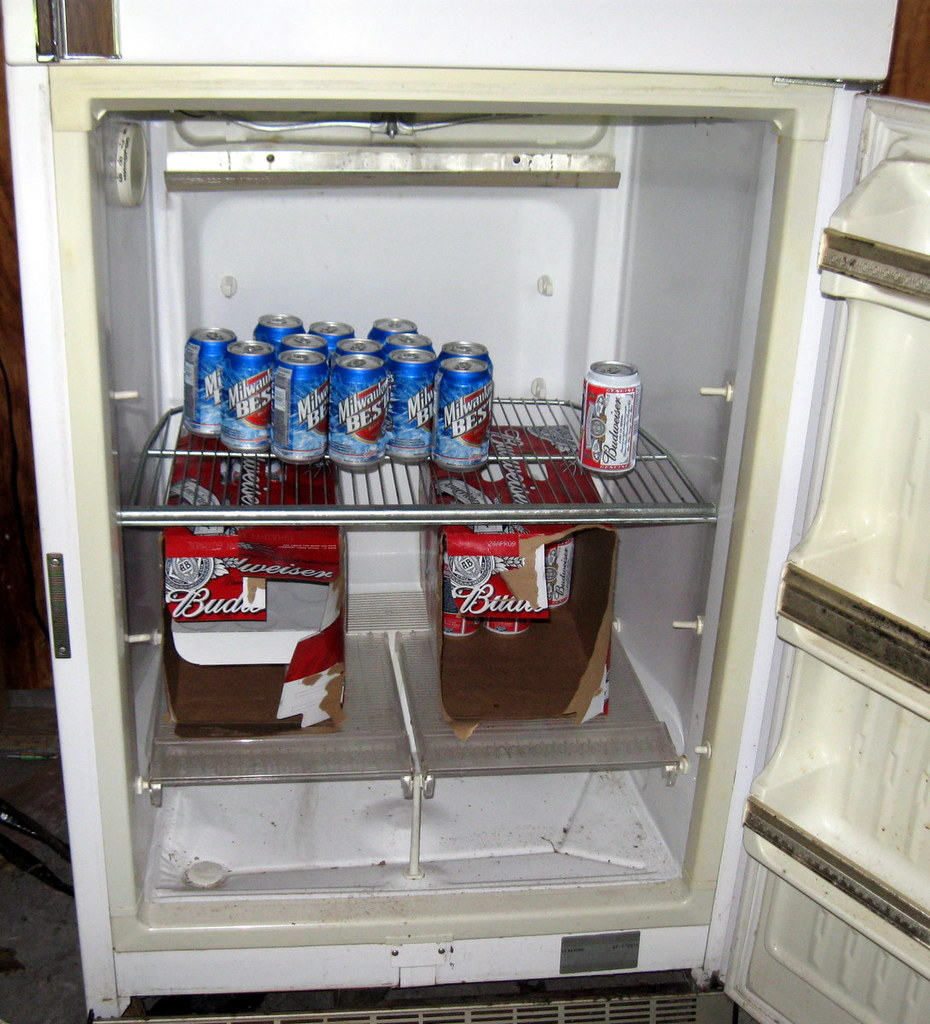refrigerator door: (798, 139, 930, 1024)
